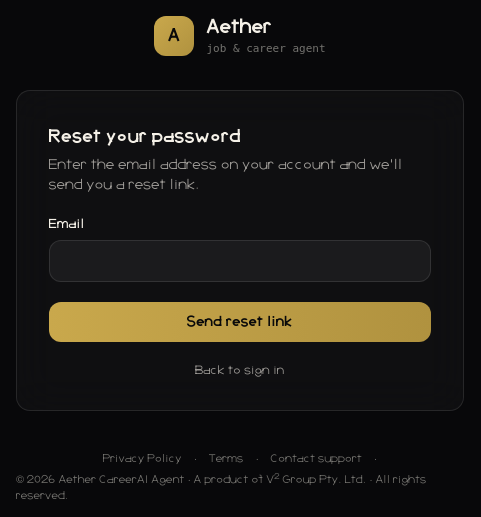
Scenario: ForgotPasswordClient › MF-3: does NOT claim success when the backend reports deliveryDegraded=true, even though emailSendingEnabled is true
This screenshot has width=481, height=517.
In the field labelled "Email": {"x": 240, "y": 261} [49,240,431,282], type "user@example.com"
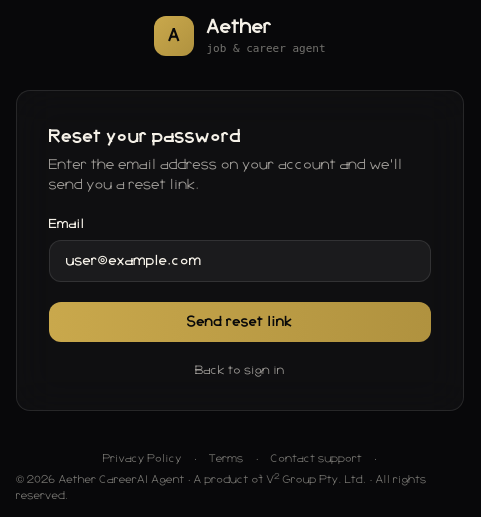
Click the button "Send reset link": {"x": 240, "y": 322} [49,302,431,342]
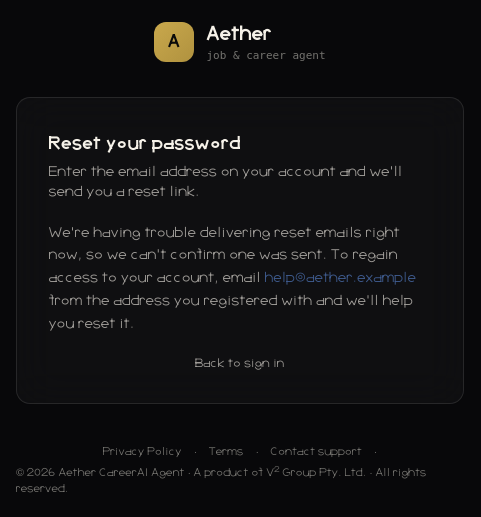
Expected: the message with test id "forgot-password-degraded" is shown, [49,222,431,335]
Expected: the message with test id "forgot-password-degraded" shows "help@aether.example", [265,271,416,285]
